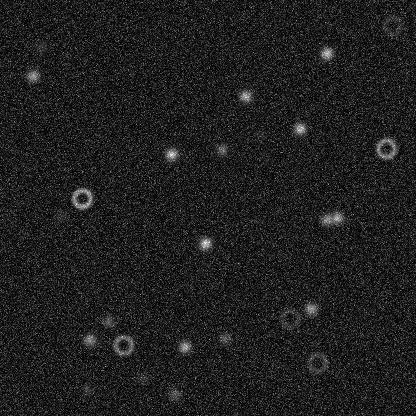Ring: (380, 13, 404, 37), (305, 350, 329, 374), (111, 333, 135, 357), (374, 136, 398, 160), (277, 306, 301, 330), (70, 186, 94, 210)
Spot: (24, 67, 40, 83), (318, 211, 334, 227), (79, 382, 95, 398), (53, 207, 69, 223), (176, 338, 192, 354), (100, 313, 116, 329), (213, 141, 229, 157), (133, 370, 149, 386), (81, 331, 97, 347), (163, 146, 179, 162), (33, 39, 49, 55), (318, 45, 334, 61), (237, 88, 253, 104), (291, 120, 307, 136), (166, 386, 182, 402), (252, 127, 268, 143), (328, 209, 344, 225), (197, 235, 213, 251), (216, 330, 232, 346), (303, 300, 319, 316)
